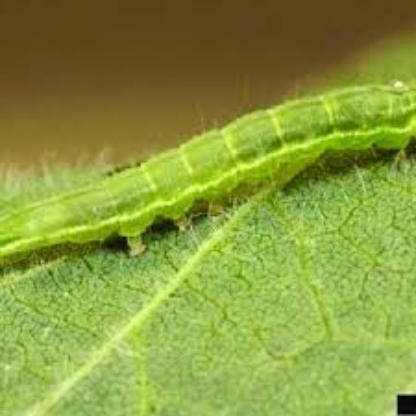oruga: (0, 70, 416, 274)
